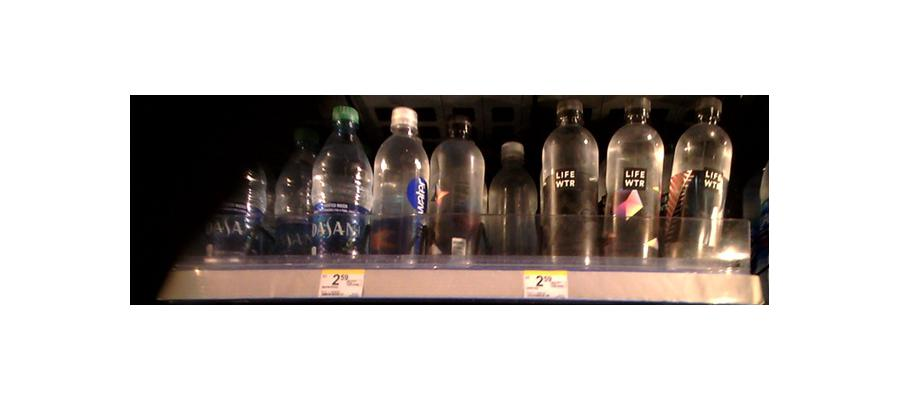bottle: (669, 98, 735, 264), (540, 103, 600, 267), (603, 102, 665, 258), (311, 106, 370, 268), (368, 110, 429, 265), (427, 118, 485, 265), (200, 147, 267, 262), (485, 139, 540, 258), (269, 116, 312, 261)
